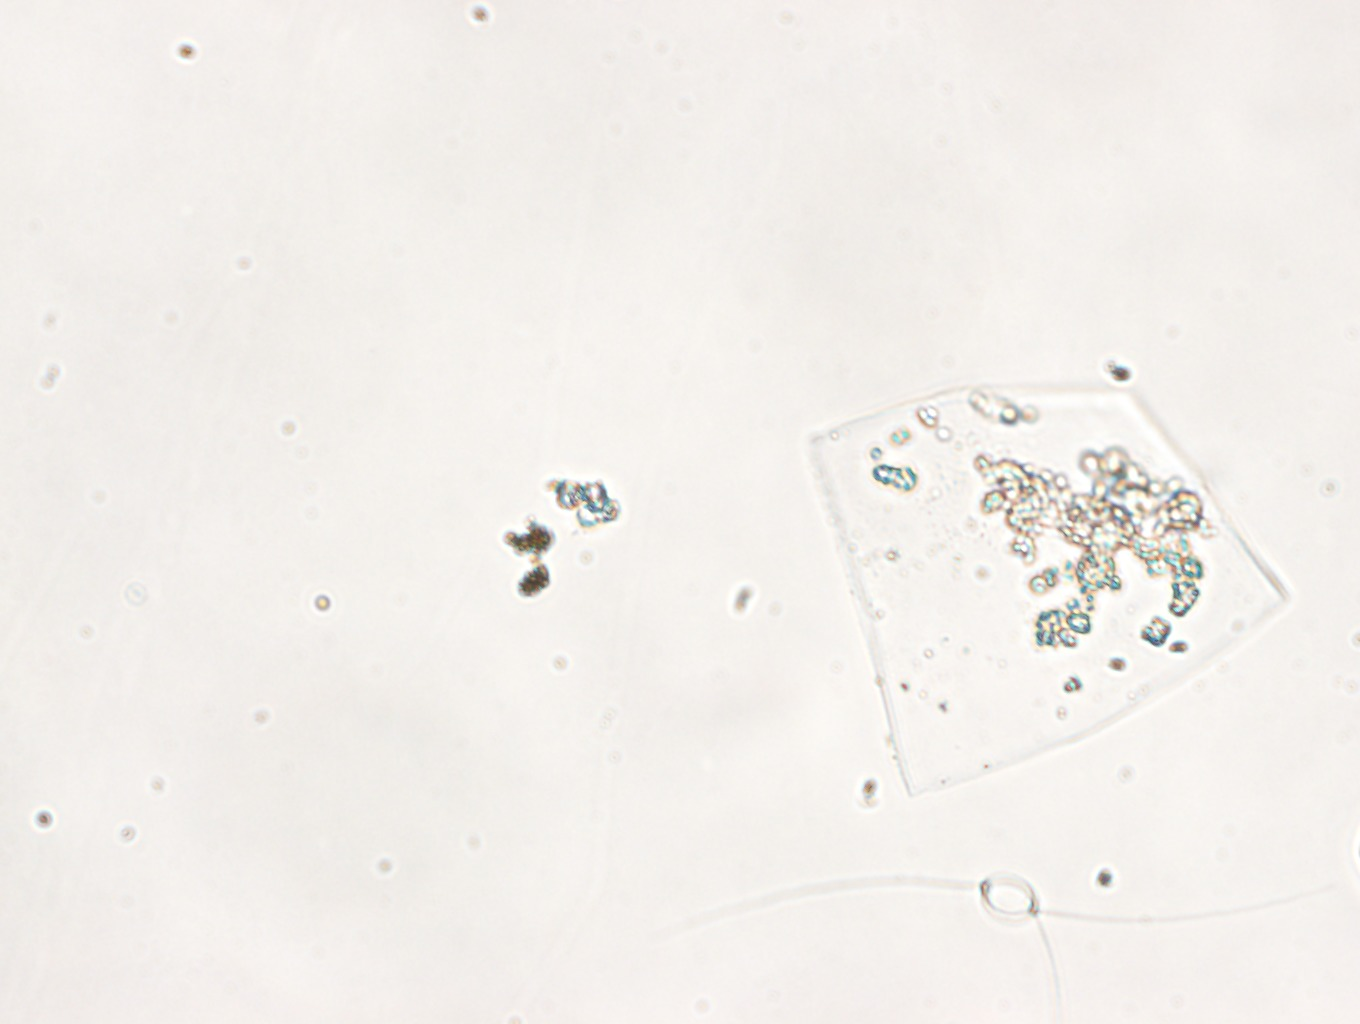chaetoceros: (713, 867, 1360, 1000)
helicotheca: (804, 383, 1289, 800)
